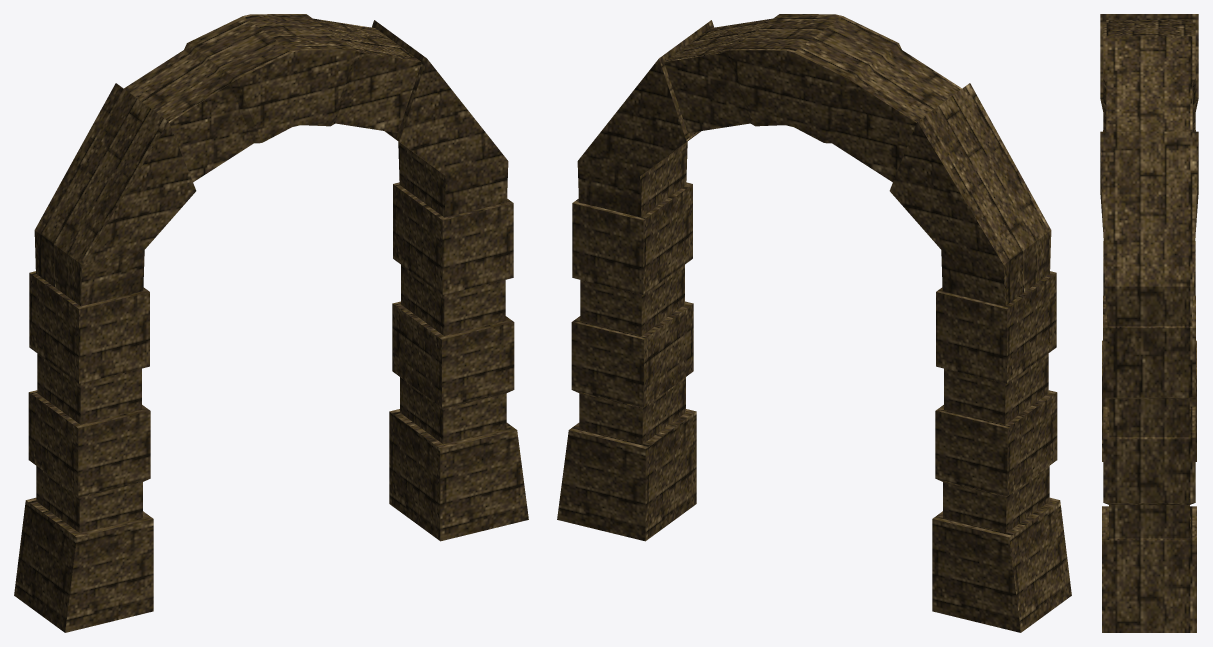
File: DungeonDoorArch.fbx
3 views of the same model, side by side, from view 1: azimuth 30°, elevation 25°; view 2: azimuth 150°, elevation 25°; view 3: azimuth 270°, elevation 25° (orthographic). The views are drawn at different scales.
Parts seen in each view (by area): view 1: Cube.005; view 2: Cube.005; view 3: Cube.005.
Part boxes in pixels (left/top/right/bottom): Cube.005: left=14, top=14, right=528, bottom=632; Cube.005: left=557, top=14, right=1071, bottom=632; Cube.005: left=1100, top=14, right=1198, bottom=632.
Size of the model in its own units: 155 by 167 by 30.52.
